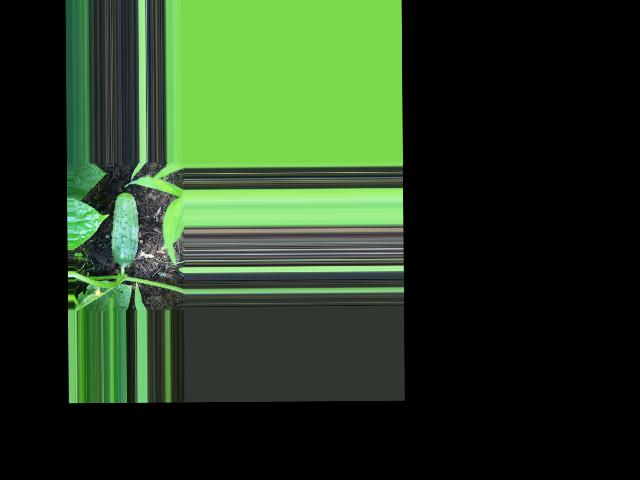cucumber: (111, 191, 139, 265)
